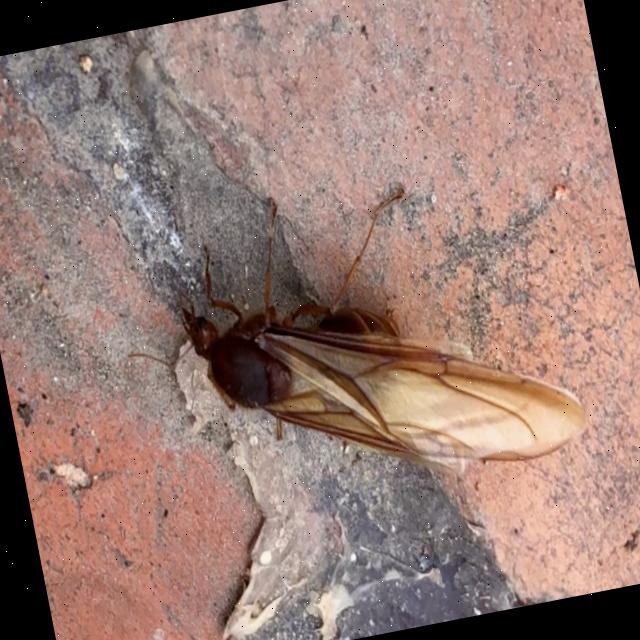Alive-Male-Alate: (102, 145, 594, 532)
